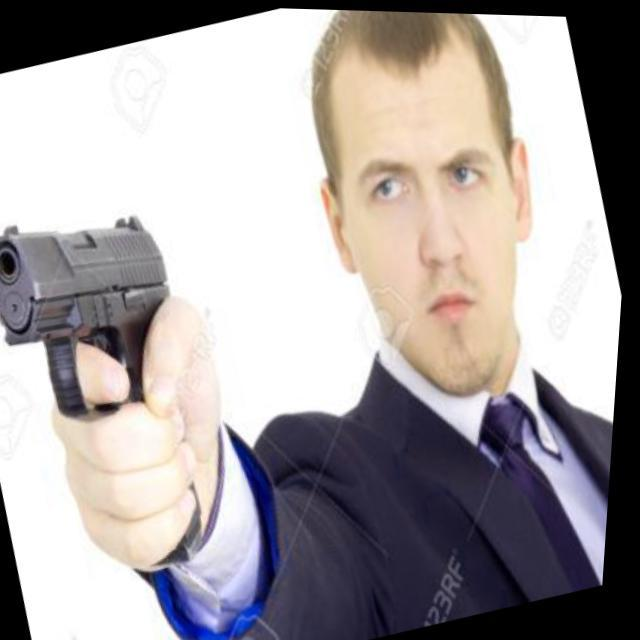weapon: (0, 177, 268, 602)
